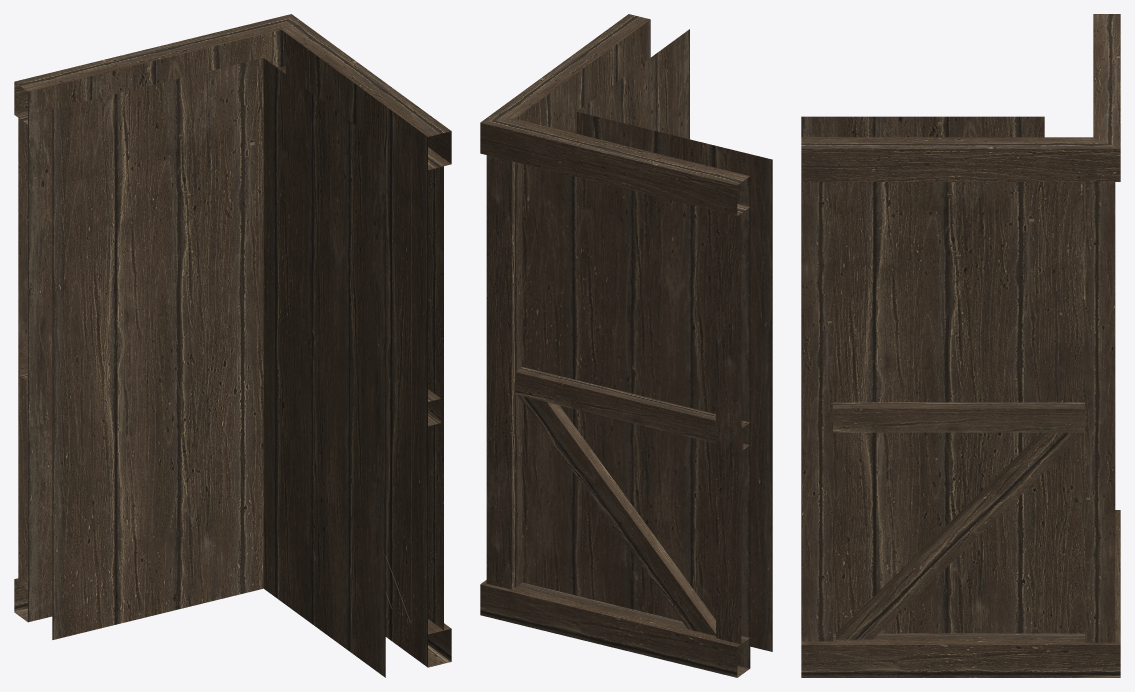
File: ARC1010280.fbx
The picture shows the model from 3 angles, left to right: view 1: azimuth 30°, elevation 25°; view 2: azimuth 150°, elevation 25°; view 3: azimuth 270°, elevation 25°; orthographic projection. The views are drawn at different scales.
Visible parts, largest first — view 1: smARC1010280; view 2: smARC1010280; view 3: smARC1010280.
Part boxes in pixels (x1,y1,x2,y2): smARC1010280: (14, 14, 451, 677); smARC1010280: (480, 14, 772, 677); smARC1010280: (801, 14, 1120, 677).
Bounding box in the file's own units: 147 × 268 × 147.
1 material, 1 textured.
